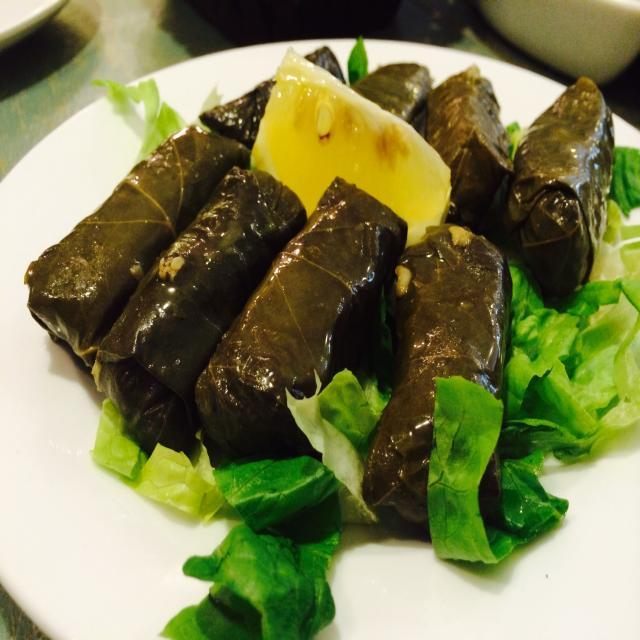wara enab: (29, 45, 617, 543)
